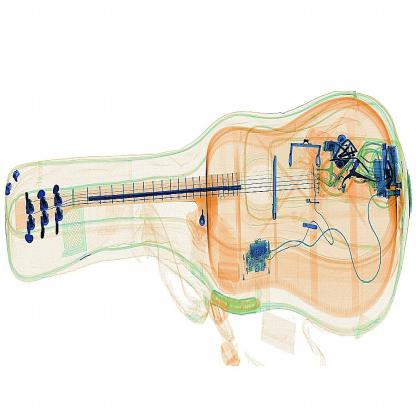pliers: (262, 146, 286, 229)
